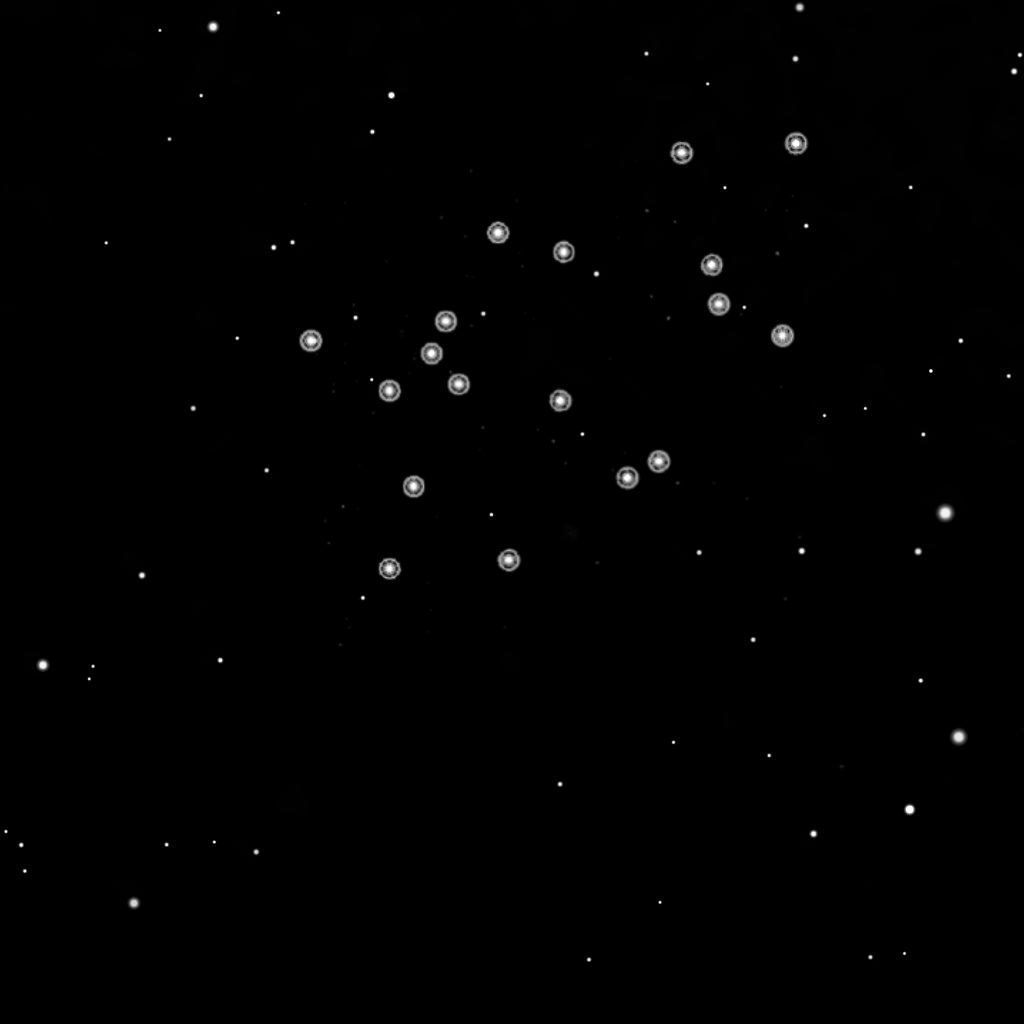canis_major: (371, 217, 581, 409)
